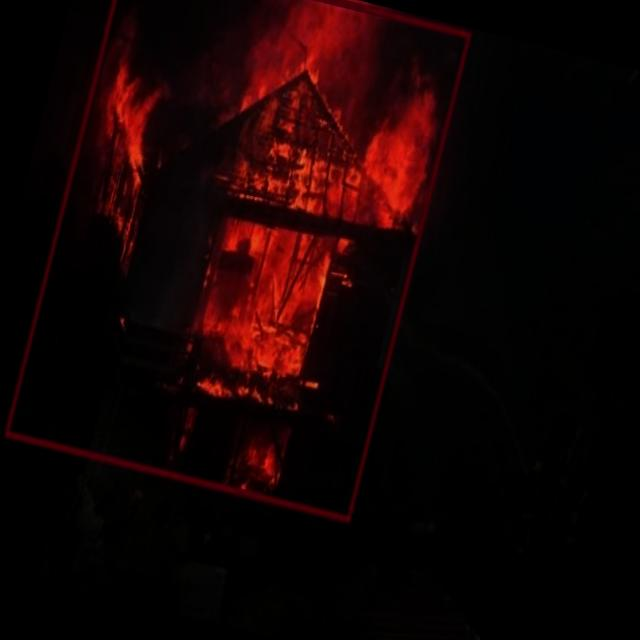fire: (3, 0, 471, 521)
